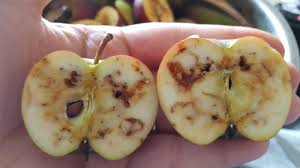damaged_apple: (24, 48, 158, 161), (161, 37, 295, 148)
